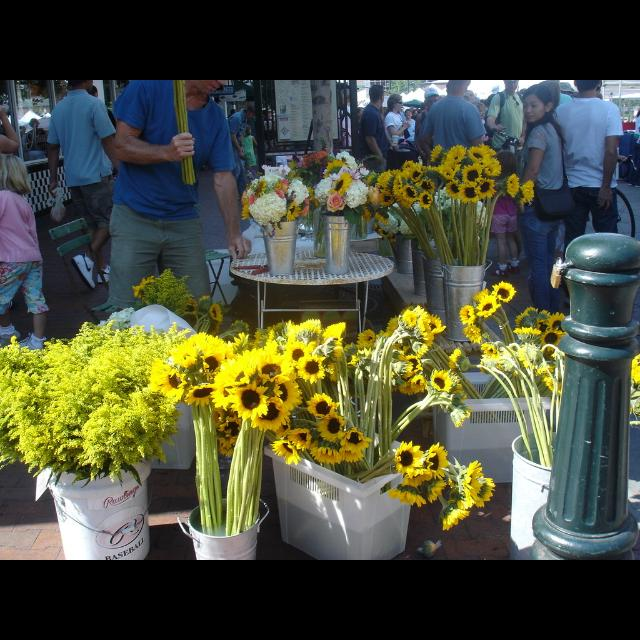Flower: (145, 293, 472, 469), (240, 143, 538, 235), (474, 303, 580, 393), (368, 188, 494, 240), (456, 280, 526, 344), (439, 458, 495, 528), (392, 449, 466, 499), (194, 299, 226, 335), (131, 273, 163, 305), (626, 351, 640, 414), (180, 294, 202, 314)
